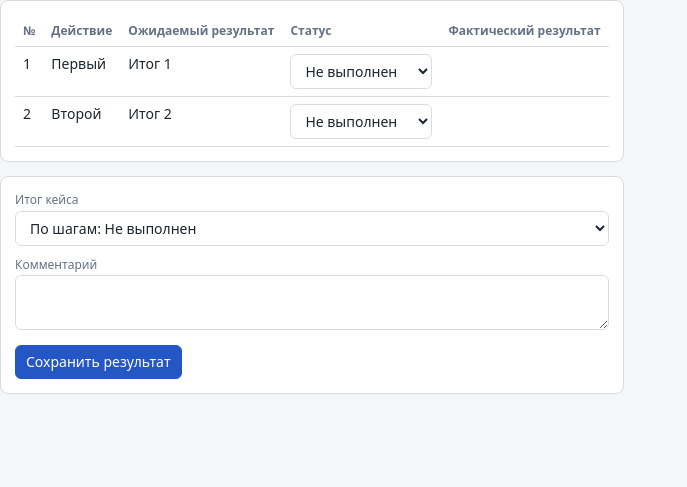
форма результата › RUN_FINISHED показывает код и причину сервера
The image size is (687, 487).
Select "Провален" in the dropdown named "Статус шага 1" at [361, 72], box x1=290 y1=54 x2=432 y2=89
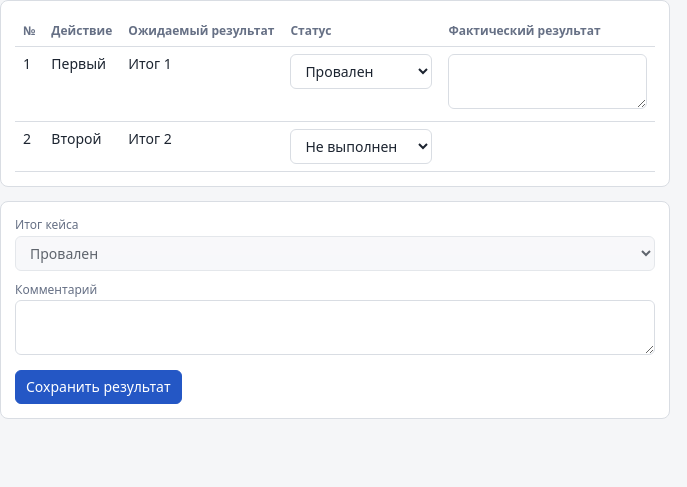
Type "201 Created" into the text box named "Фактический результат шага 1" at [548, 82], box x1=448 y1=54 x2=647 y2=109
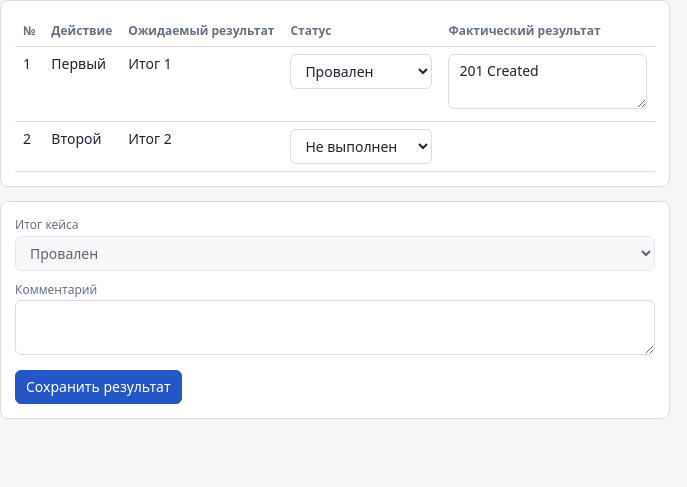
Click the button "Сохранить результат" at [98, 387], box x1=15 y1=370 x2=182 y2=404
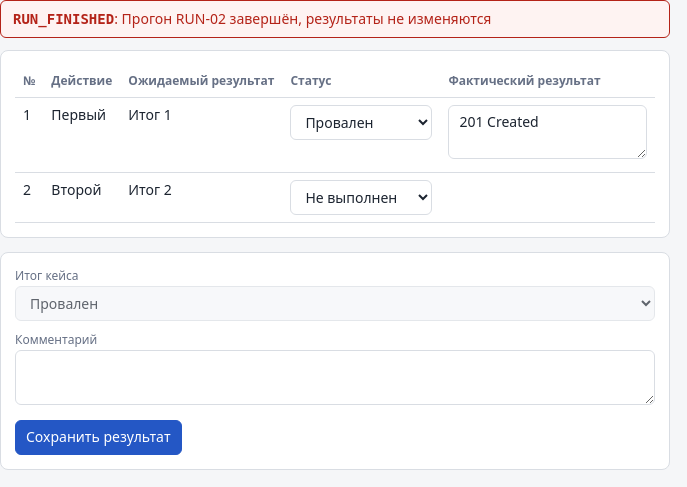
Now the text "RUN_FINISHED" is shown, box x1=13 y1=11 x2=114 y2=27
Now the message shows "результаты не изменяются", box x1=122 y1=9 x2=491 y2=28
